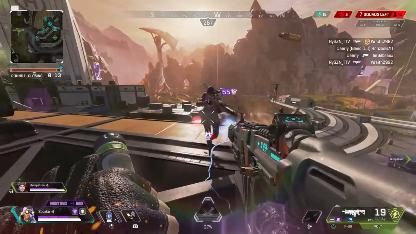Target: (200, 83, 220, 130)
